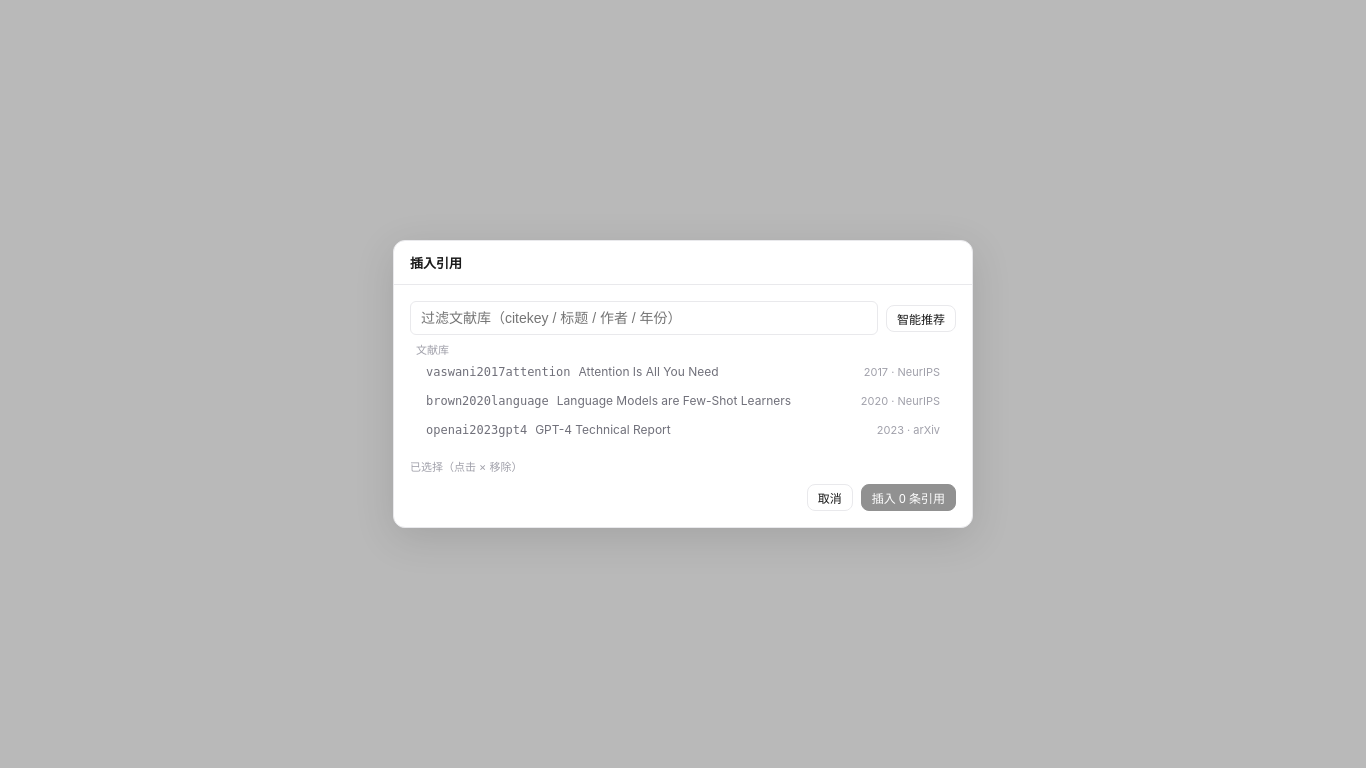
Scenario: CitationPicker › 已选 chips：选中后出现 chip，点击 × 移除并同步按钮条数
This screenshot has width=1366, height=768.
Click the option with class "sf-citepicker-row" that starts with "vaswani2017attention": [683, 372] box [426,364,940,379]
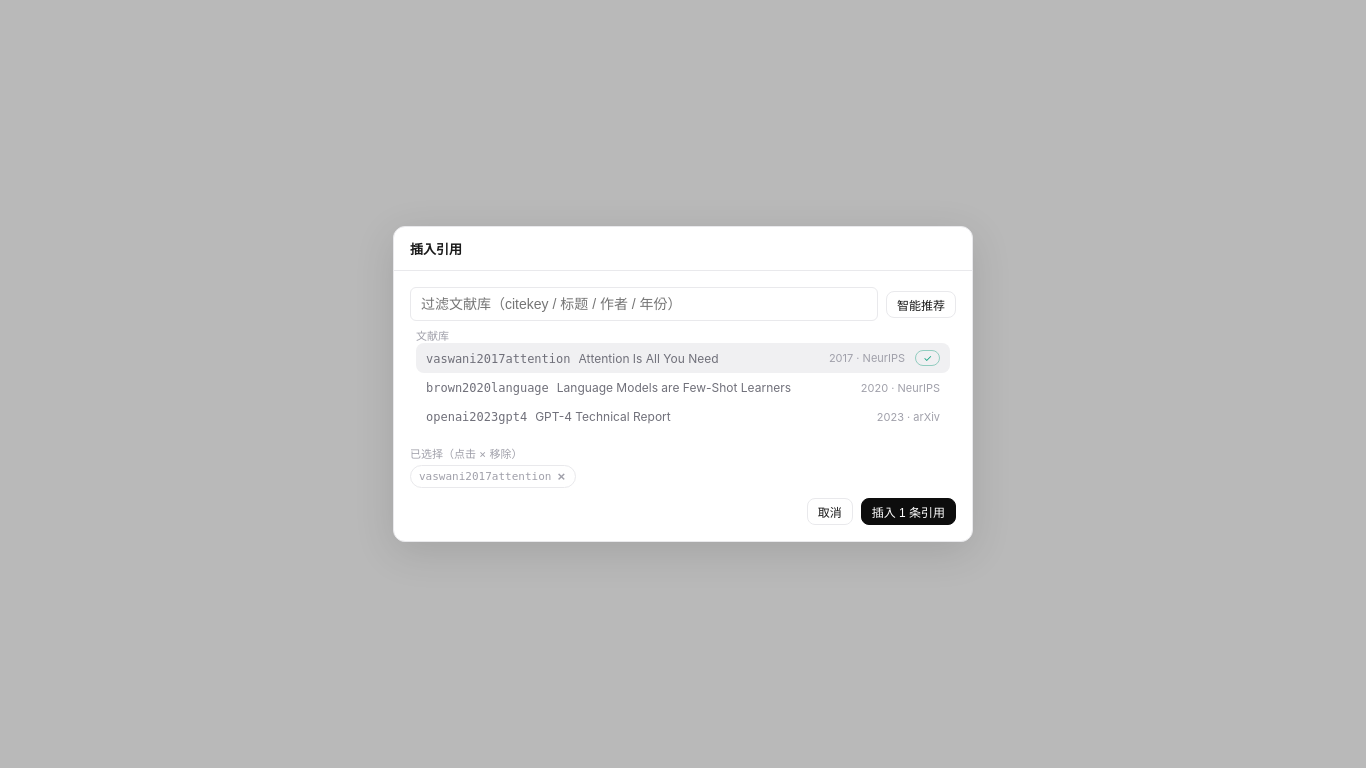
Click the option with class "sf-citepicker-row" that starts with "brown2020language": [683, 388] box [426,380,940,395]
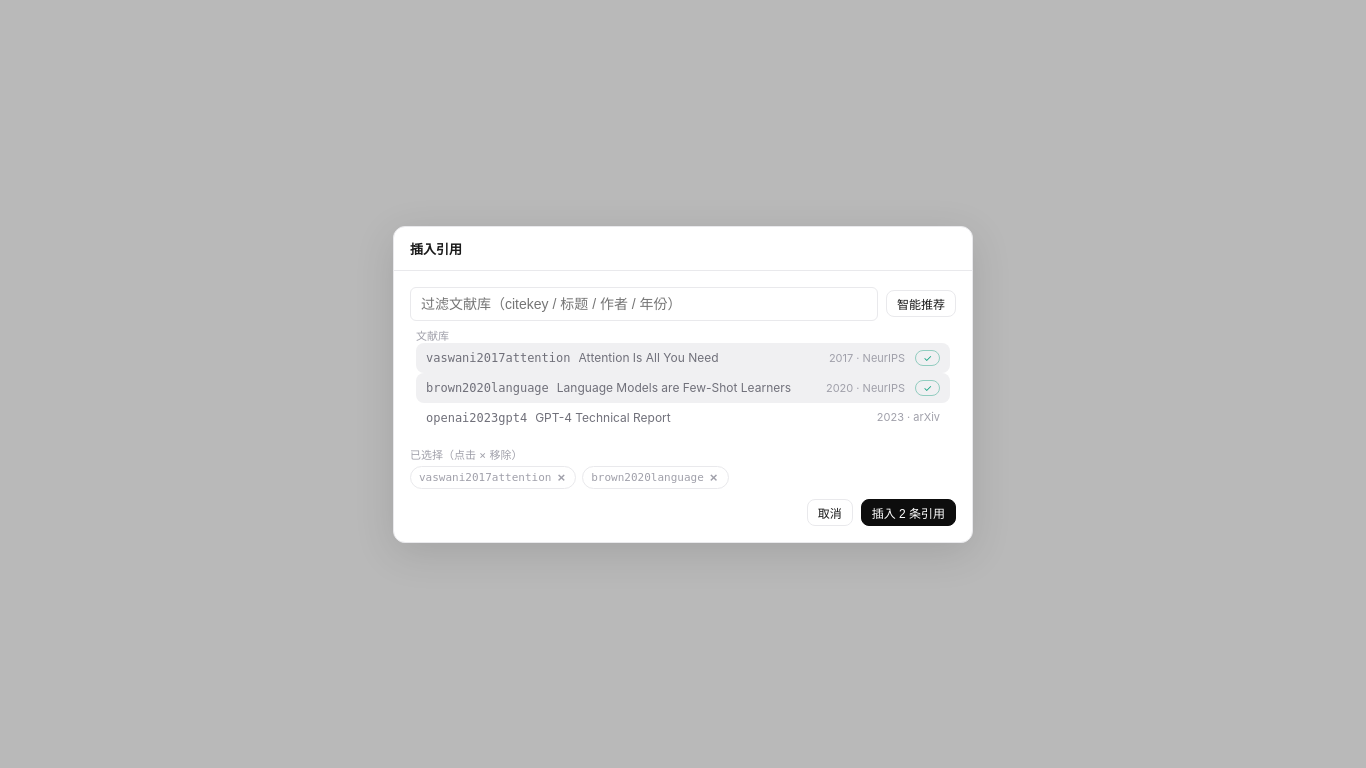
Click the 1st button with class "sf-citepicker-chip-remove": [561, 477] box [556,470,567,484]
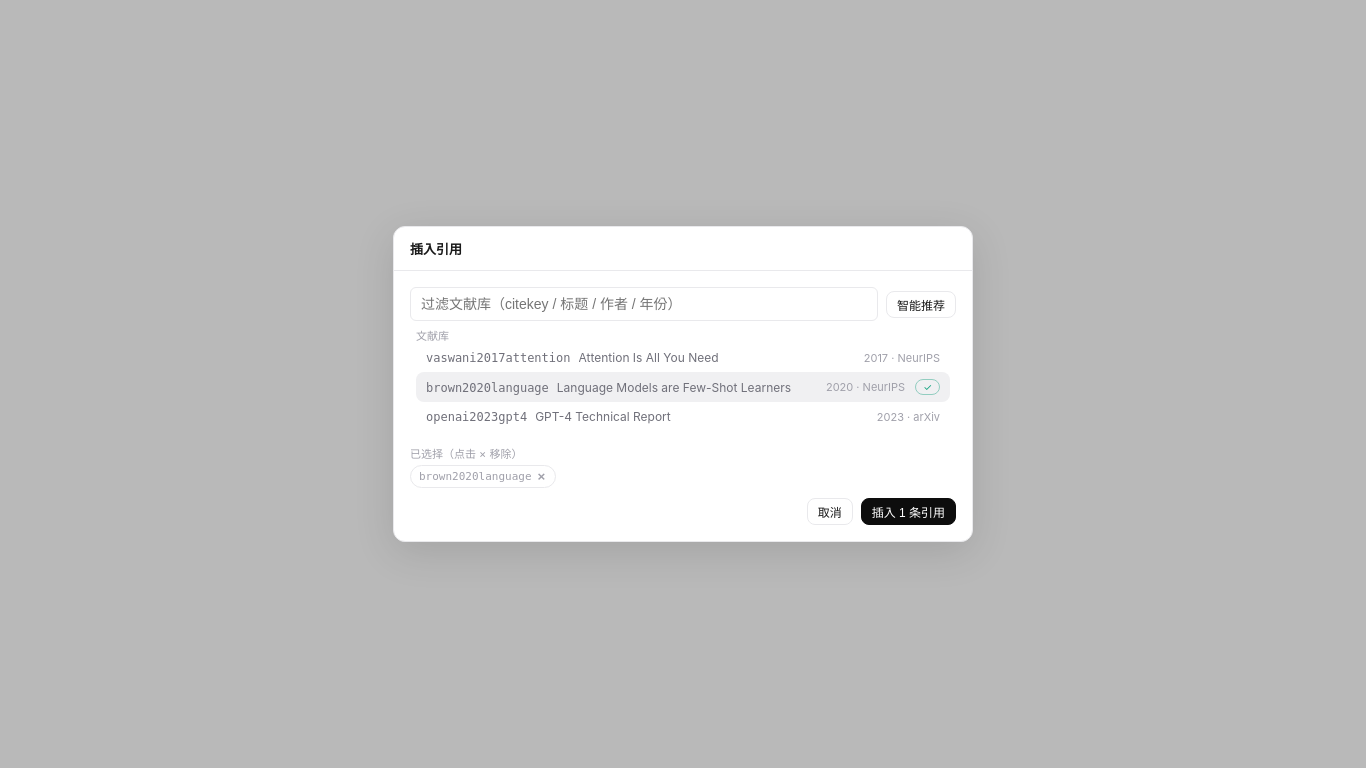
expect the element with class "sf-citepicker-chip" shows "brown2020language": met, box [419,470,532,483]
expect the button with class "sf-citepicker-insert" shows "1": met, box [861,498,956,525]
